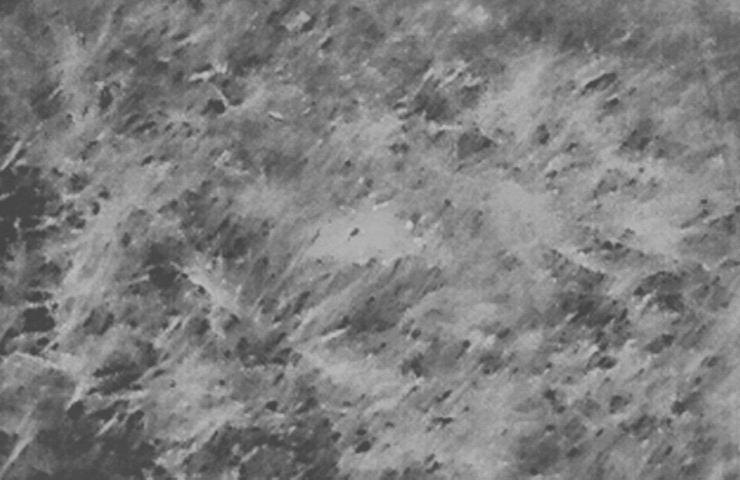landmines: (300, 195, 426, 278)
